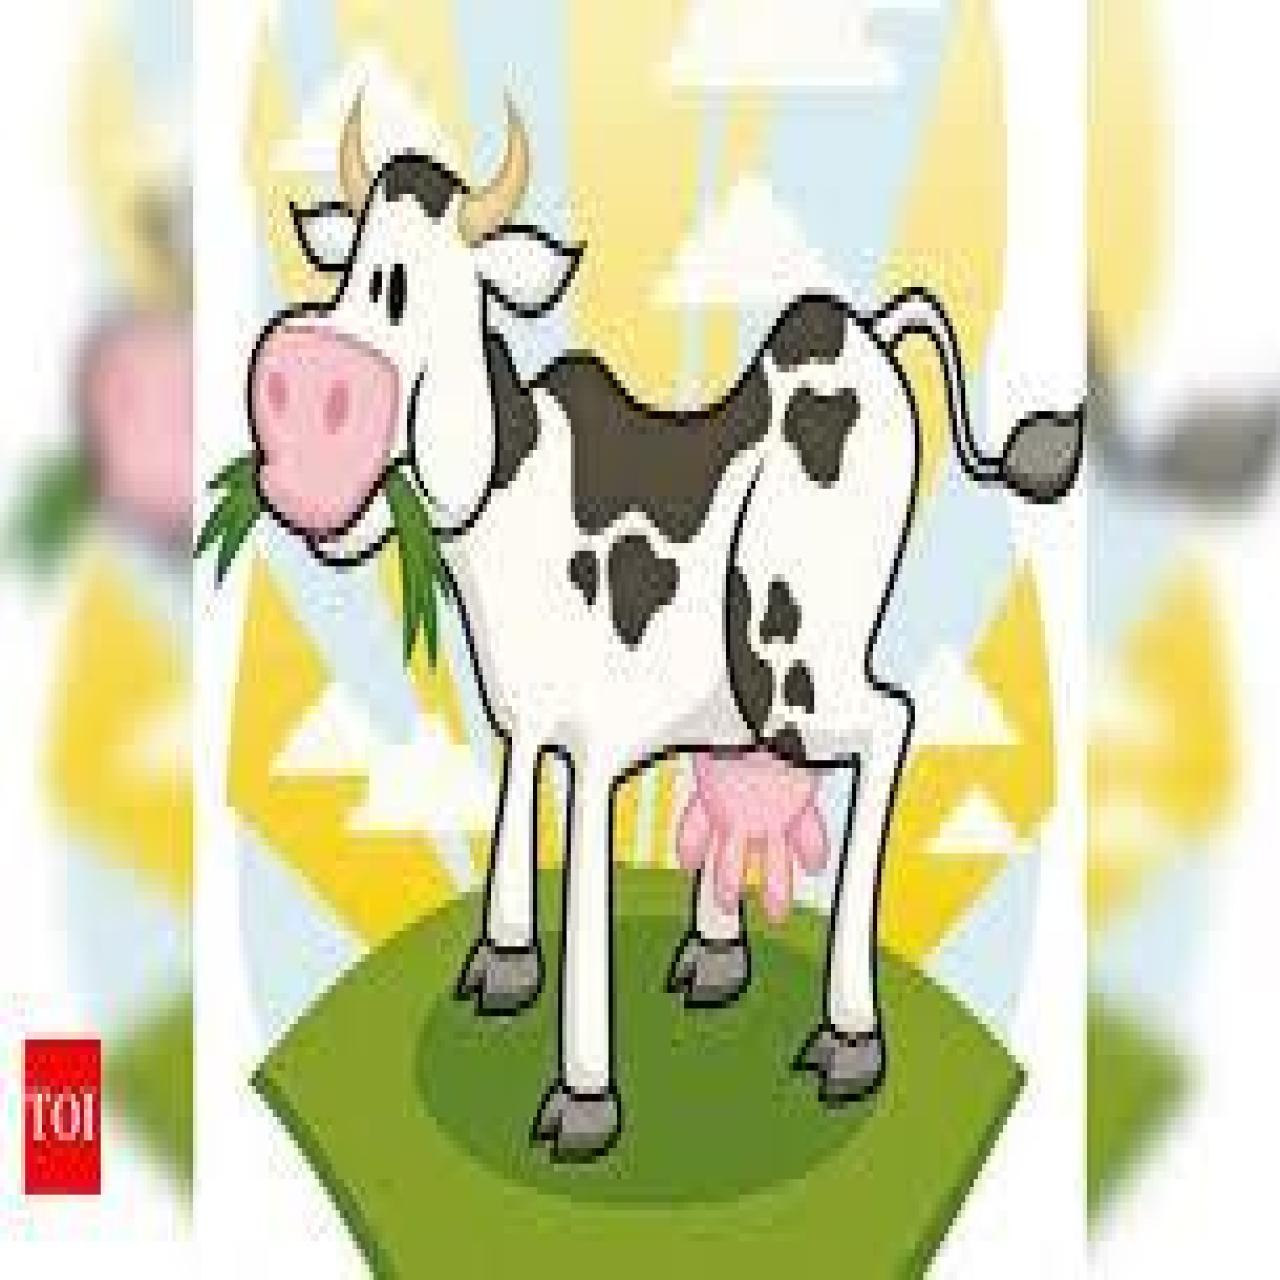cow: (246, 159, 921, 1159)
